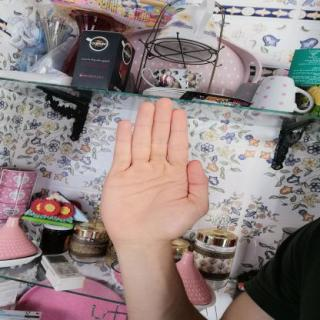SEEN: (91, 92, 215, 250)
